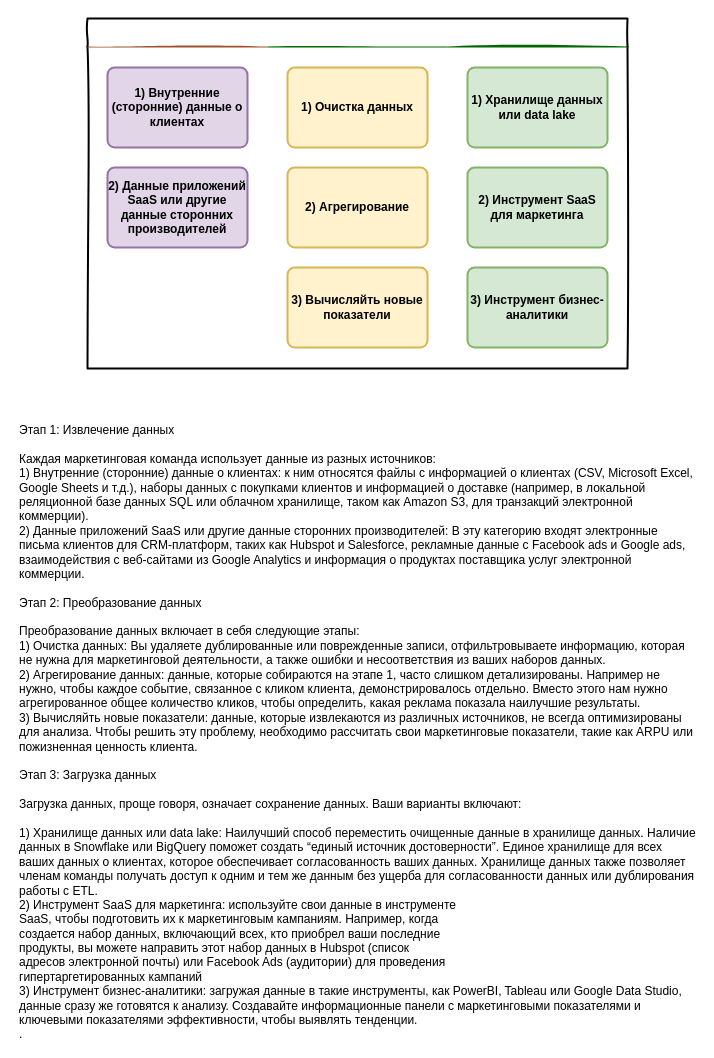
The diagram is 714 pixels wide and 1058 high, and some of its shapes have lost their labels. Here are the shapes that lost their labels. From the top down, the box of each, then its label:
(87, 46, 267, 368): Этап 1: Extract
(267, 46, 447, 368): Этап 2: Transform
(447, 46, 627, 368): Этап3: Load
